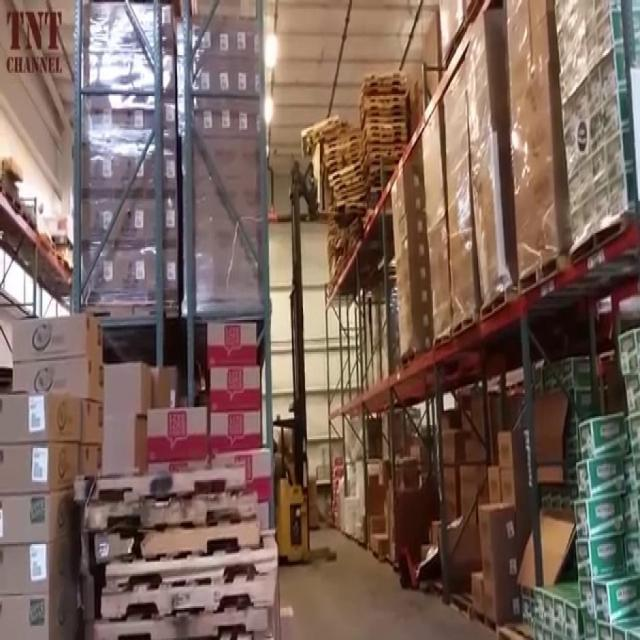forklift: (270, 404, 318, 569)
